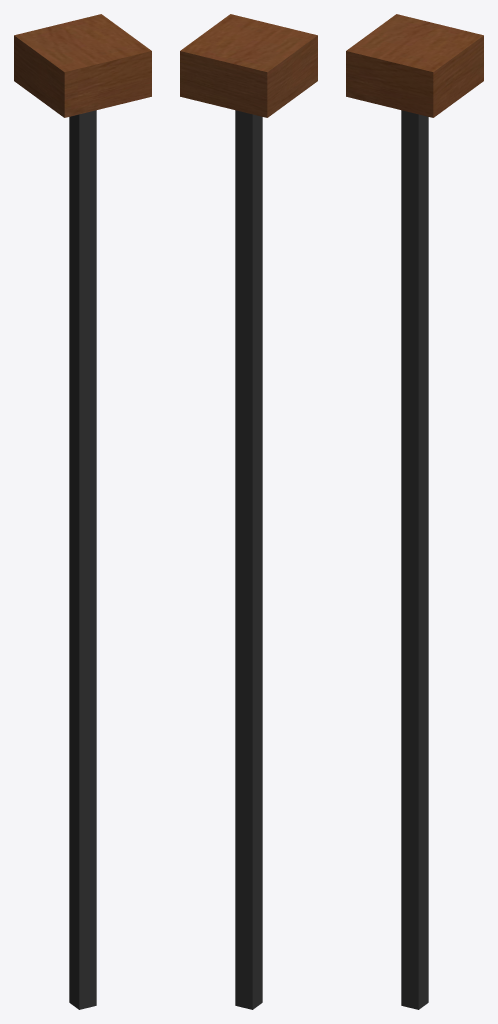
The model's file is railingStraightLanding.glb.
3 renders of one model, left to right at view 1: azimuth 30°, elevation 25°; view 2: azimuth 150°, elevation 25°; view 3: azimuth 330°, elevation 25°, orthographic.
Parts seen in each view (by area): view 1: Cube, Cube.001; view 2: Cube, Cube.001; view 3: Cube, Cube.001.
Boxes of the visible parts, left/top/right/bottom form: Cube: left=69, top=110, right=96, bottom=1009; Cube.001: left=14, top=14, right=151, bottom=117; Cube: left=235, top=110, right=262, bottom=1009; Cube.001: left=180, top=14, right=317, bottom=117; Cube: left=401, top=110, right=428, bottom=1009; Cube.001: left=346, top=14, right=483, bottom=117.
Bounding box in the file's own units: 0.1 × 1.05 × 0.1.
Materials: 2 (1 with a texture image).
